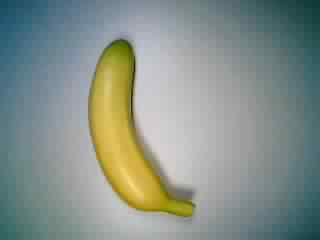banana: (83, 34, 202, 223)
